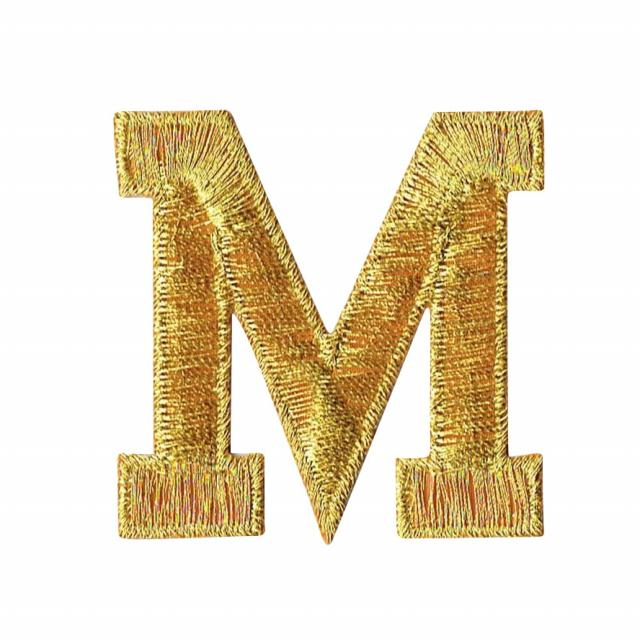M: (80, 63, 578, 567)
